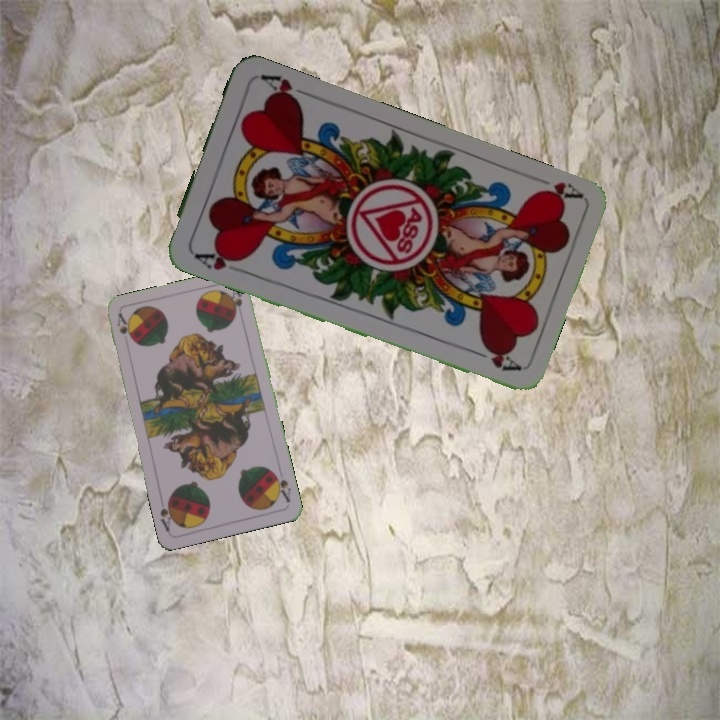HA: (527, 171, 584, 207), (190, 246, 244, 273)
SA: (269, 465, 294, 505), (113, 310, 133, 342)
